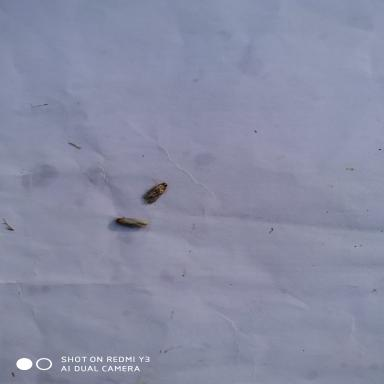pbw: (133, 178, 170, 208), (109, 214, 150, 231)
